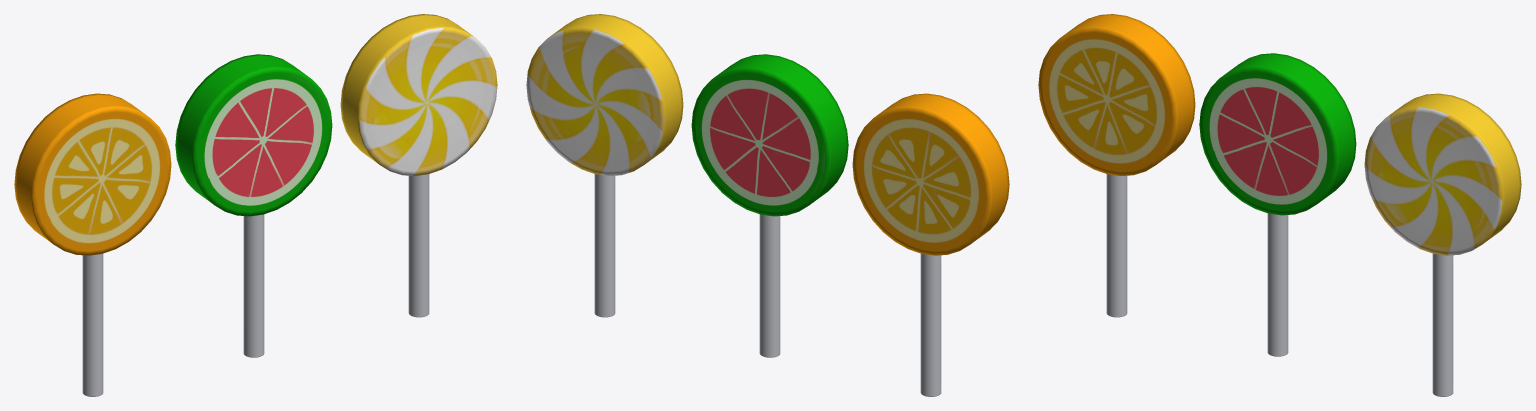
File: Lollipop.fbx
The picture shows the model from 3 angles, left to right: view 1: azimuth 30°, elevation 25°; view 2: azimuth 150°, elevation 25°; view 3: azimuth 330°, elevation 25°; orthographic projection.
Parts seen in each view (by area): view 1: Lollipop (×3), Stick (×3); view 2: Lollipop (×3), Stick (×3); view 3: Lollipop (×3), Stick (×3).
Boxes of the visible parts, left/top/right/bottom form: Lollipop (×3): left=14, top=14, right=497, bottom=255; Stick (×3): left=82, top=174, right=429, bottom=396; Lollipop (×3): left=526, top=14, right=1009, bottom=255; Stick (×3): left=594, top=174, right=941, bottom=396; Lollipop (×3): left=1038, top=14, right=1521, bottom=255; Stick (×3): left=1106, top=174, right=1453, bottom=396.
Size of the model in its own units: 6.11 by 3.65 by 0.4327.
Materials: 6 (6 with a texture image).
